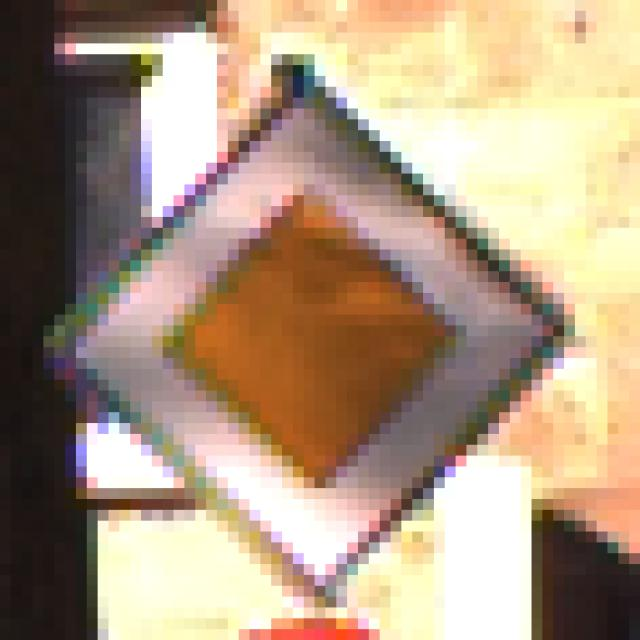Main Road: (55, 55, 587, 587)
